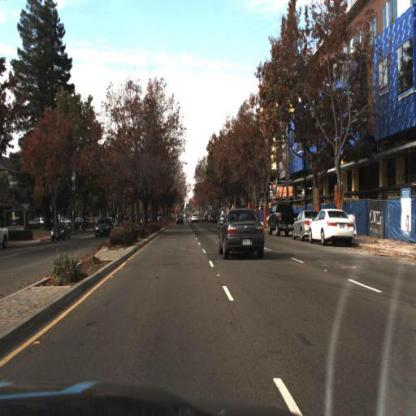car: (217, 205, 268, 262), (308, 208, 356, 246), (309, 210, 354, 243), (267, 200, 298, 239), (291, 210, 320, 243), (291, 210, 319, 243), (93, 216, 115, 243), (49, 222, 71, 245), (93, 217, 115, 239), (173, 210, 188, 229), (190, 209, 201, 226)
